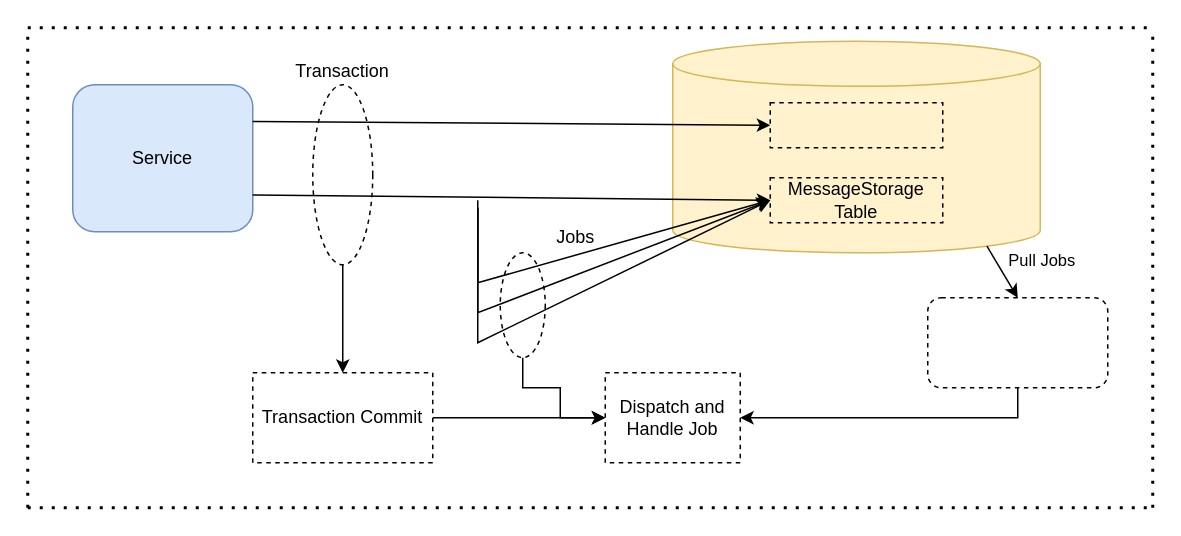
Image size: 1181x536. Some labels were removed from this diagram. The centre of each missing label's shape, as x and y in pixels:
Background Service (Retry failed job): the point at 1017,342
Some Table: the point at 856,124
